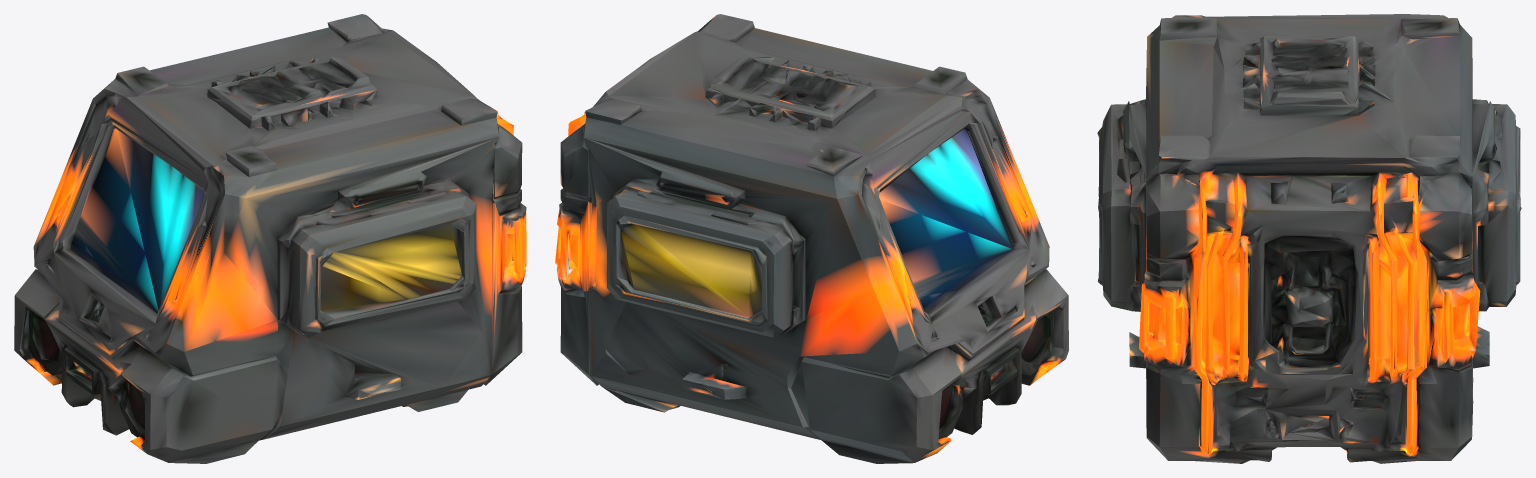
File: obj_charge_v1.glb
3 renders of one model, left to right at view 1: azimuth 30°, elevation 25°; view 2: azimuth 150°, elevation 25°; view 3: azimuth 270°, elevation 25°, orthographic. The views are drawn at different scales.
Bounding box in the file's own units: 0.98 × 0.7404 × 0.8253.
1 material, 1 textured.
